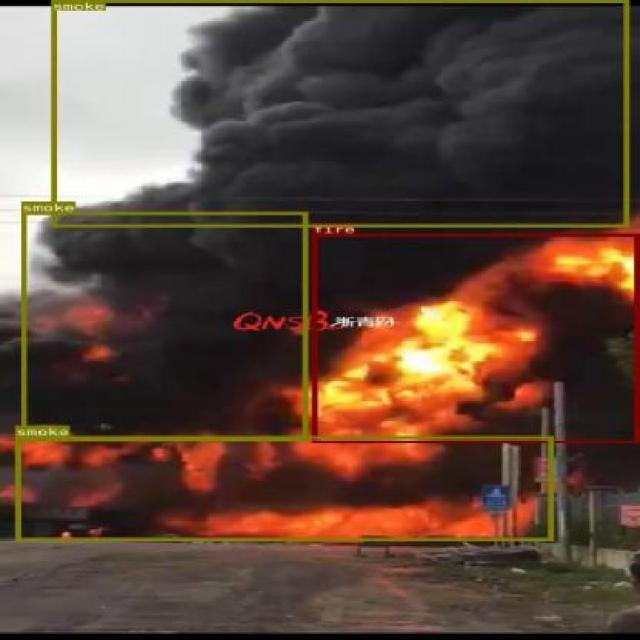Fire: (312, 233, 638, 442)
Smoke: (50, 0, 627, 226), (21, 212, 307, 440), (14, 435, 552, 540)
